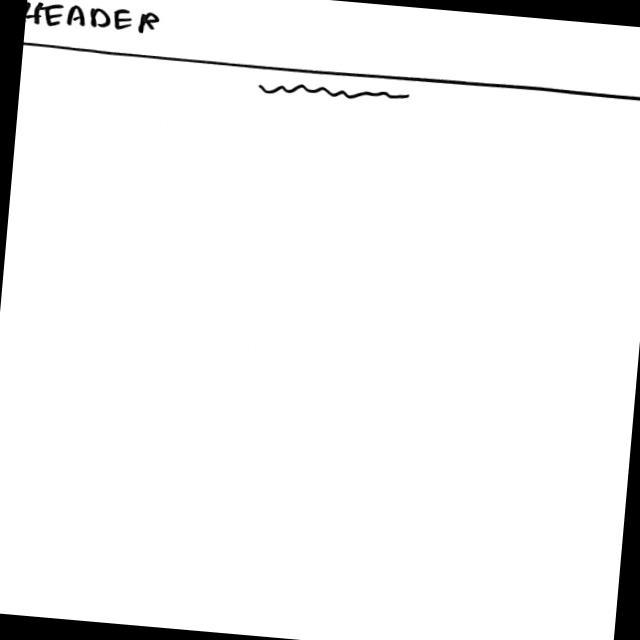label: (25, 1, 162, 37)
text: (259, 80, 414, 110)
